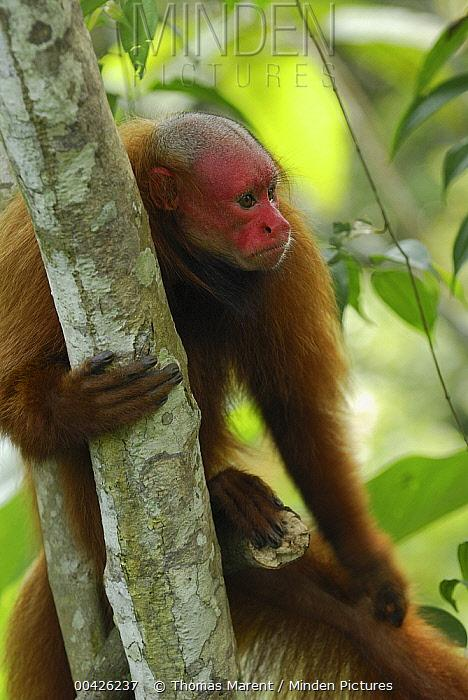monkey: (124, 113, 408, 627)
